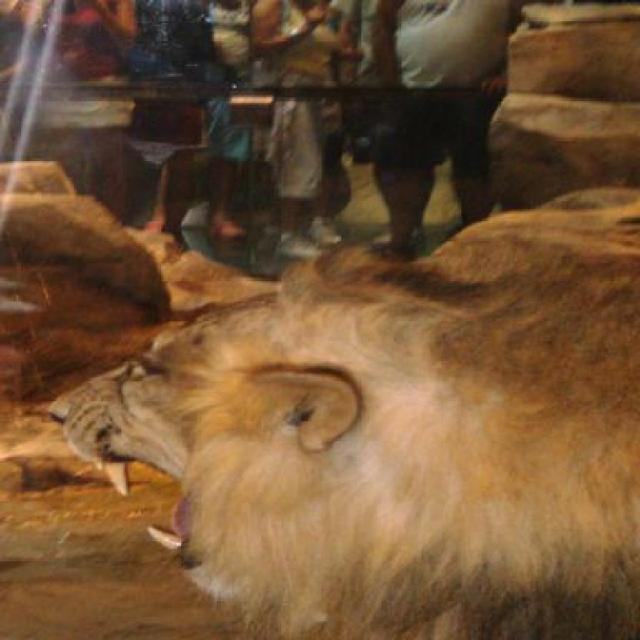Lion: (39, 178, 638, 638)
